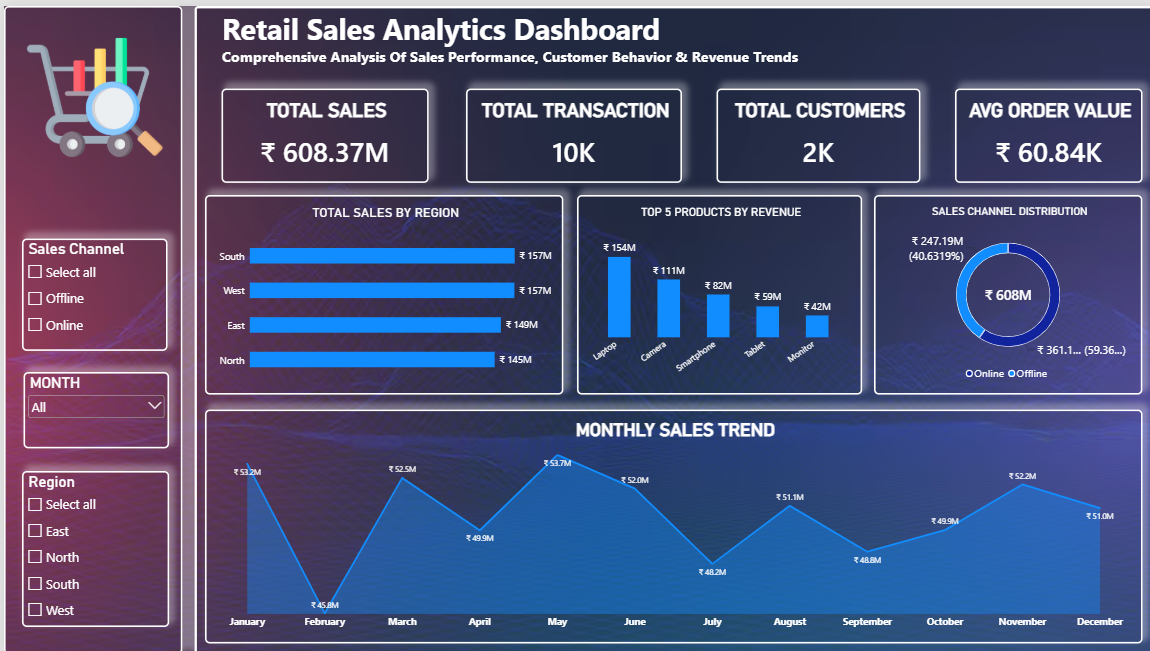

What the dashboard file says about the page in this screenshot:
{"tool":"powerbi","page":{"name":"Page 1","canvas":[1920,1080],"ordinal":0},"visuals":[{"type":"textbox","box":[0,0,297.5,1080],"z":0},{"type":"textbox","box":[317.5,0,1602.5,1080],"z":1},{"type":"card","title":"TOTAL SALES","fields":{"Values":["MEASURE.TOTAL SALES"]},"box":[362.5,138.6,345,157.5],"z":2},{"type":"card","title":"TOTAL TRANSACTION","fields":{"Values":["MEASURE.TOTAL TRANSACTION"]},"box":[770,138.6,360,157.5],"z":3},{"type":"card","title":"TOTAL CUSTOMERS","fields":{"Values":["MEASURE.TOTAL CUSTOMER"]},"box":[1187.5,138.6,340,157.5],"z":4},{"type":"card","title":"AVG ORDER VALUE","fields":{"Values":["MEASURE.AVERAGE ORDER VALUE"]},"box":[1585,138.6,312.5,157.5],"z":5},{"type":"clusteredBarChart","title":"TOTAL SALES BY REGION","fields":{"Category":["Retail Transactions Dataset.Region"],"Y":["MEASURE.TOTAL SALES"]},"box":[335,315.8,597.5,332.5],"z":6},{"type":"clusteredColumnChart","title":"TOP 5 PRODUCTS BY REVENUE","fields":{"Category":["Retail Transactions Dataset.ProductName"],"Y":["MEASURE.TOTAL SALES"]},"box":[955,315.8,475,332.5],"z":7},{"type":"donutChart","title":"SALES CHANNEL DISTRIBUTION","fields":{"Category":["Retail Transactions Dataset.SalesChannel"],"Y":["MEASURE.TOTAL SALES"]},"box":[1450,315,447.5,332.5],"z":8},{"type":"lineChart","title":"MONTHLY SALES TREND","fields":{"Category":["Retail Transactions Dataset.Date.Variation.Date Hierarchy.Month"],"Y":["MEASURE.TOTAL SALES"]},"box":[335,672.5,1562.5,390],"z":9},{"type":"slicer","fields":{"Values":["Retail Transactions Dataset.Month_Name"]},"box":[32.5,610,242.5,127.5],"z":10},{"type":"slicer","fields":{"Values":["Retail Transactions Dataset.SalesChannel"]},"box":[30,387.5,242.5,187.5],"z":11},{"type":"slicer","fields":{"Values":["Retail Transactions Dataset.Region"]},"box":[30,775,245,260],"z":12},{"type":"image","box":[30,32.5,242.5,240],"z":13}]}

Visuals, with their boxes in screenshot pixels (x1, y1, x2, y2), scaled from the page's 1920x1080 canvas onto the 1150x651 screenshot:
textbox: left=0, top=0, right=178, bottom=650
textbox: left=190, top=0, right=1149, bottom=650
"TOTAL SALES" card: left=217, top=84, right=424, bottom=178
"TOTAL TRANSACTION" card: left=461, top=84, right=677, bottom=178
"TOTAL CUSTOMERS" card: left=711, top=84, right=915, bottom=178
"AVG ORDER VALUE" card: left=949, top=84, right=1137, bottom=178
"TOTAL SALES BY REGION" clusteredBarChart: left=201, top=190, right=559, bottom=391
"TOP 5 PRODUCTS BY REVENUE" clusteredColumnChart: left=572, top=190, right=857, bottom=391
"SALES CHANNEL DISTRIBUTION" donutChart: left=868, top=190, right=1137, bottom=390
"MONTHLY SALES TREND" lineChart: left=201, top=405, right=1137, bottom=640
slicer - Retail Transactions Dataset.Month_Name: left=19, top=368, right=165, bottom=445
slicer - Retail Transactions Dataset.SalesChannel: left=18, top=234, right=163, bottom=347
slicer - Retail Transactions Dataset.Region: left=18, top=467, right=165, bottom=624
image: left=18, top=20, right=163, bottom=164
